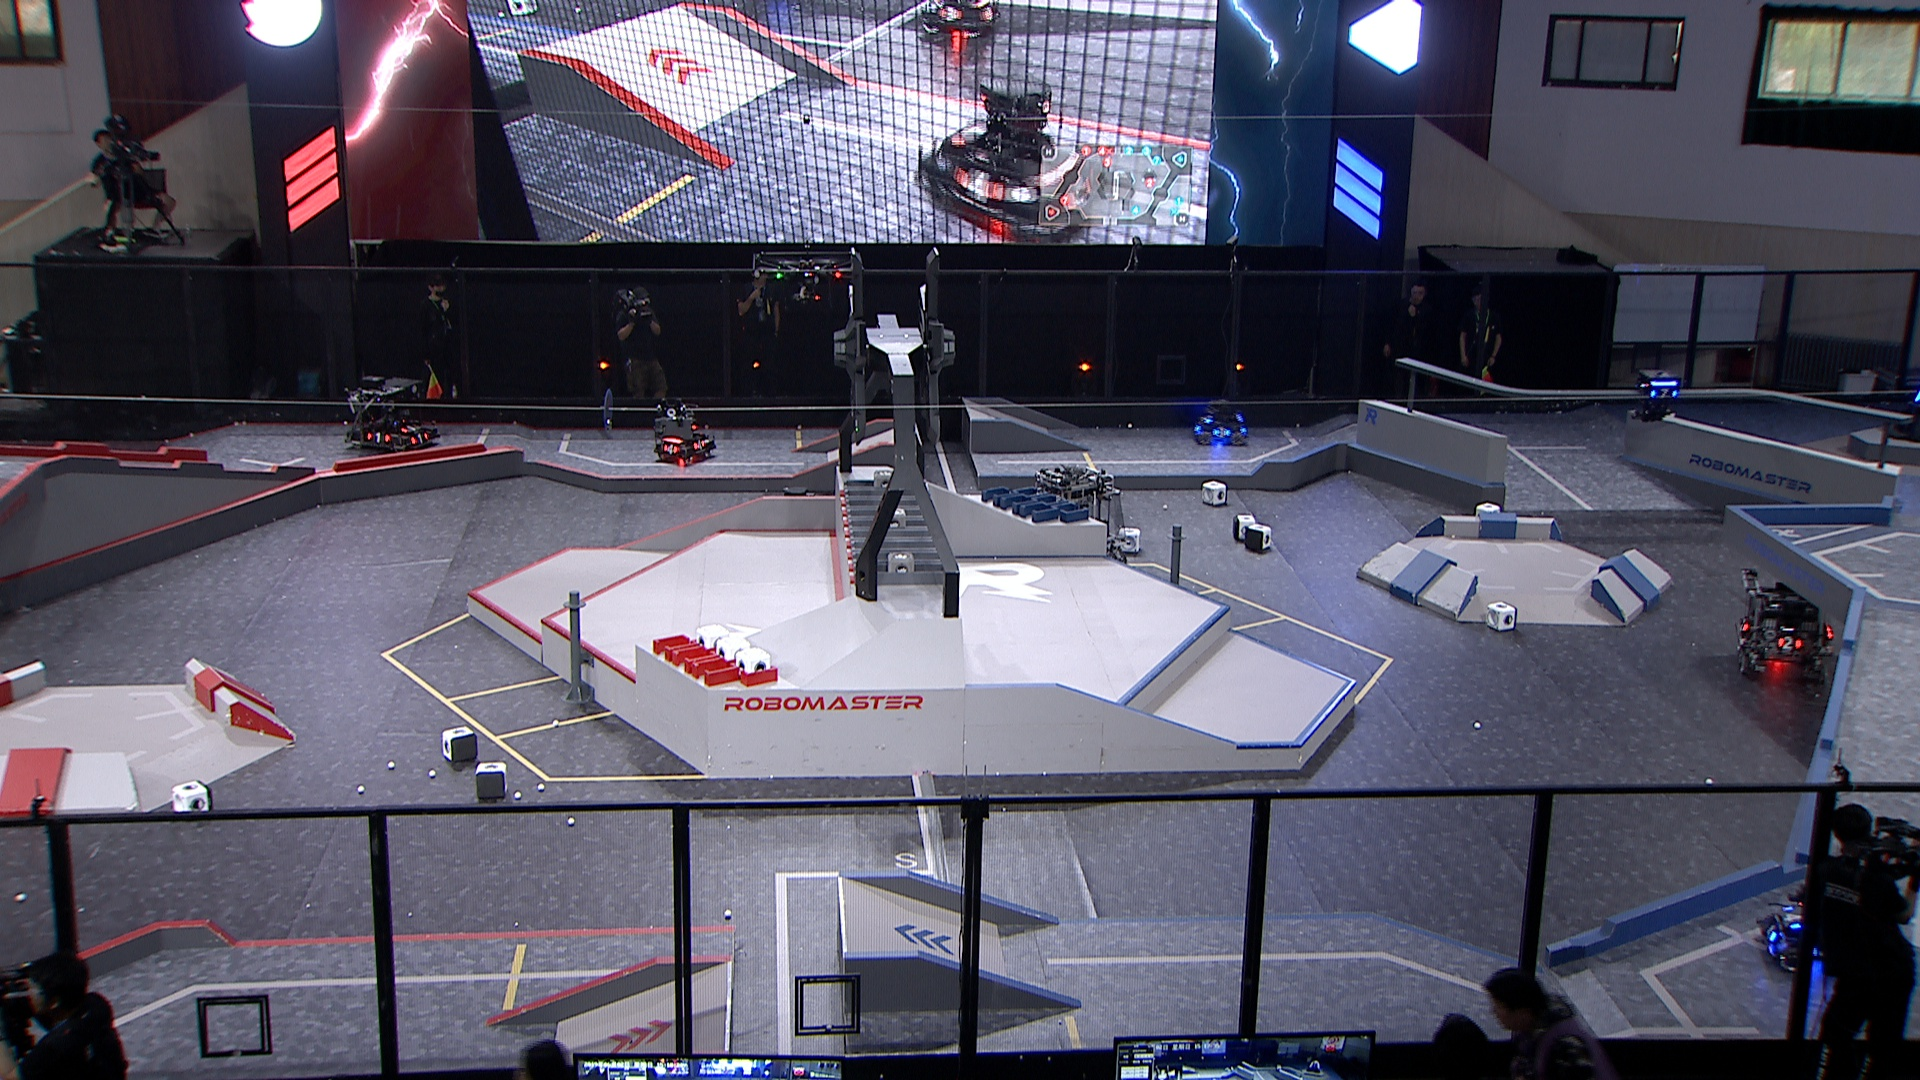armor: (1780, 903, 1804, 932), (1774, 633, 1804, 654), (1762, 920, 1782, 944), (1650, 386, 1679, 400), (1211, 425, 1233, 440), (365, 431, 392, 444), (409, 433, 430, 446), (661, 443, 680, 456), (400, 422, 423, 433), (690, 439, 708, 452), (1738, 618, 1754, 633), (1913, 390, 1920, 405)
base: (1887, 349, 1920, 446)
car: (1737, 566, 1837, 688), (1030, 462, 1133, 575), (1760, 874, 1874, 973), (347, 373, 442, 452), (654, 407, 717, 465), (1192, 400, 1250, 450)
ignore: (916, 69, 1095, 243), (920, 0, 1000, 40)
watcher: (1633, 367, 1684, 425)
